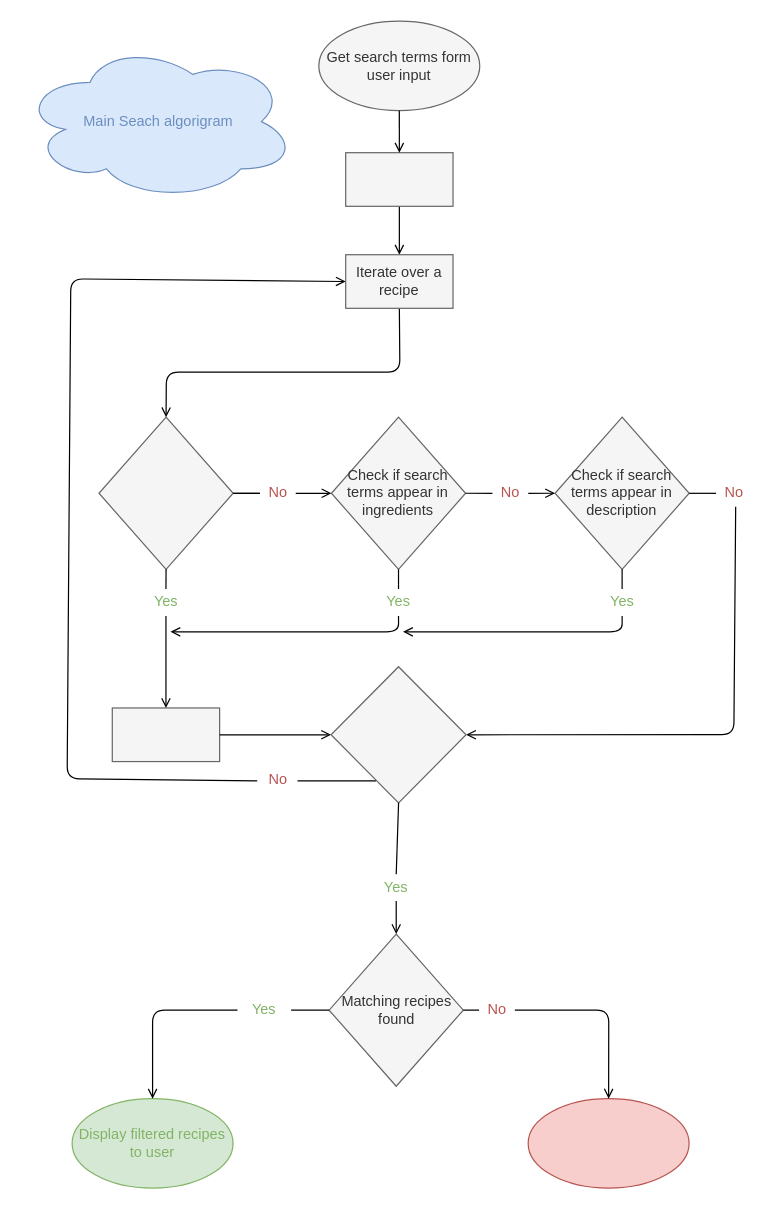
Some shapes in this 773 by 1210 pixel diagram are drawn without their labels. Here are the shapes that lost their labels. From the top down, the centre of each, then its label:
At (165,492): "Check if search terms appear in name".
At (165,734): "Add recipe to filtered list".
At (398,734): "End of the array ?".
At (608,1142): "Display error message".
